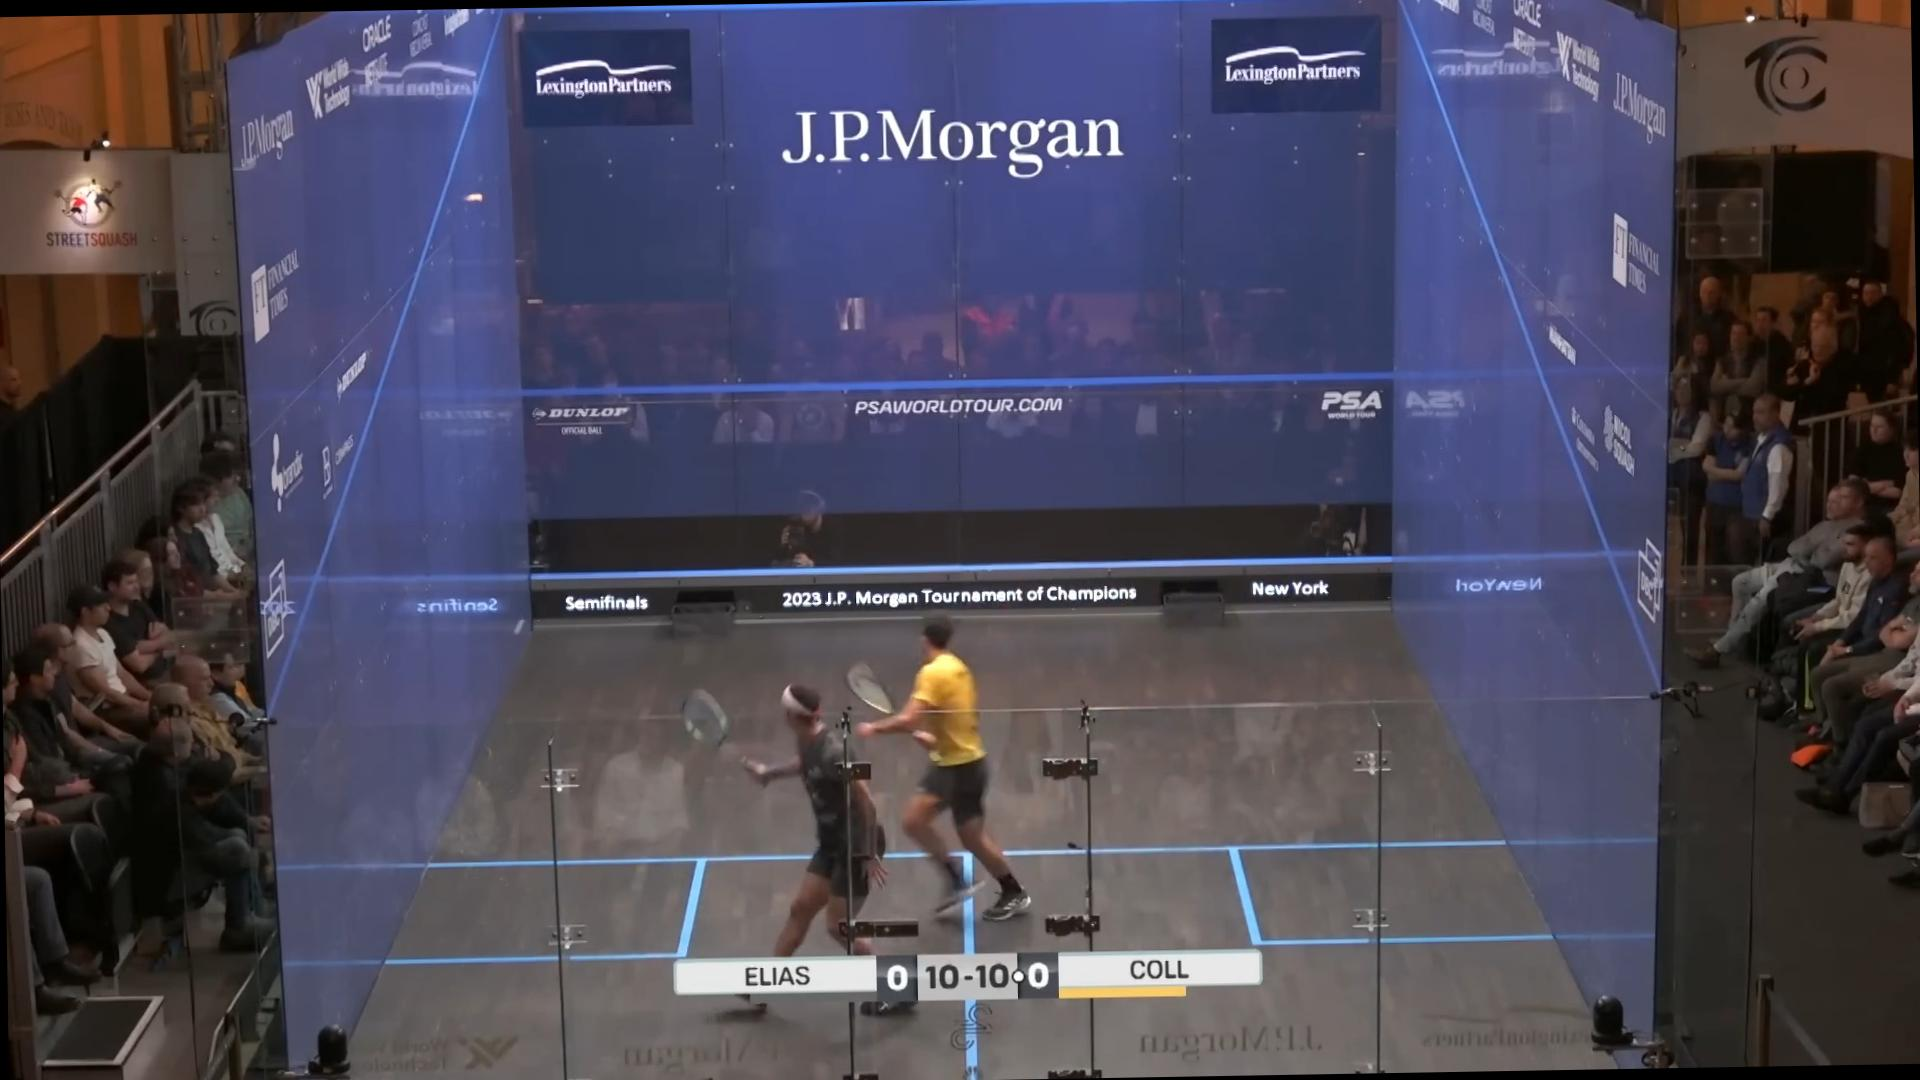Racket: (670, 686, 756, 773), (829, 654, 905, 719)
